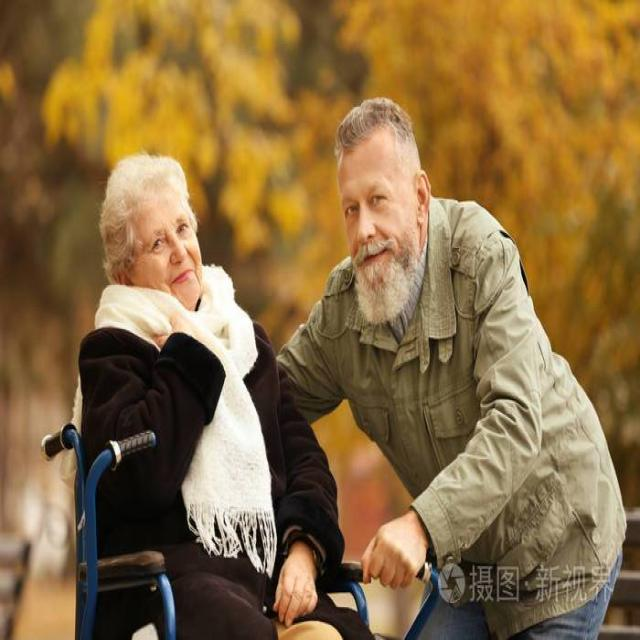wheelchairs: (36, 410, 396, 640)
